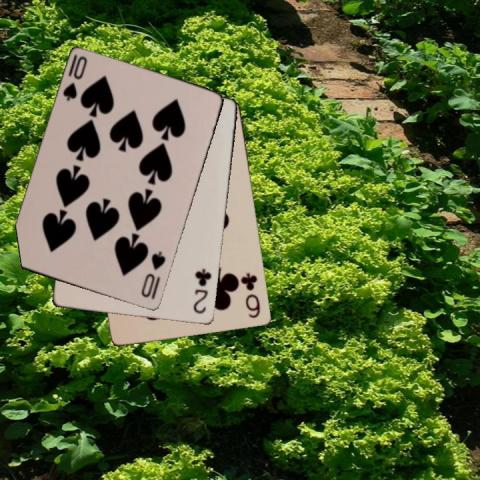10s: (138, 250, 167, 300), (60, 54, 89, 104)
2c: (191, 266, 213, 315)
6c: (239, 270, 262, 320)
